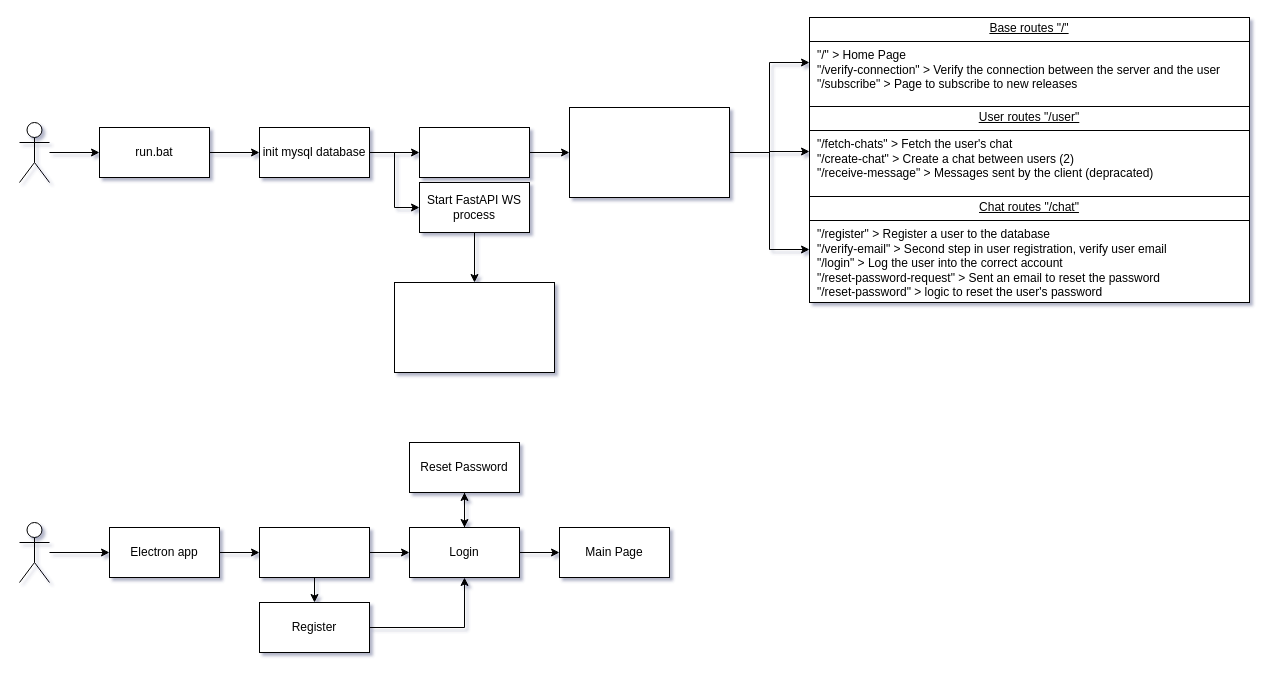
Image size: 1273x676. Some labels were removed from this diagram. Here are the shapes that lost their labels. From the top down, the centre of each, then its label:
pixel 34 152: Server
pixel 474 152: Start Flask Process
pixel 649 152: Flask API Base routes "/" Chat routes "/chat" User routes "/user"
pixel 474 327: WS routes (to implement)
pixel 34 552: User
pixel 314 552: Home Page
